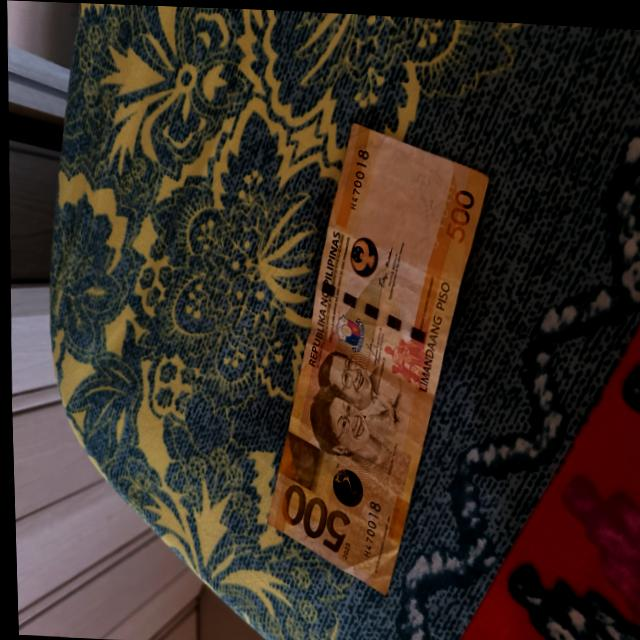concealed_value: (276, 434, 314, 481)
optically_variable_device: (324, 466, 360, 506)
value: (271, 479, 351, 551)
watermark: (357, 148, 448, 241)
